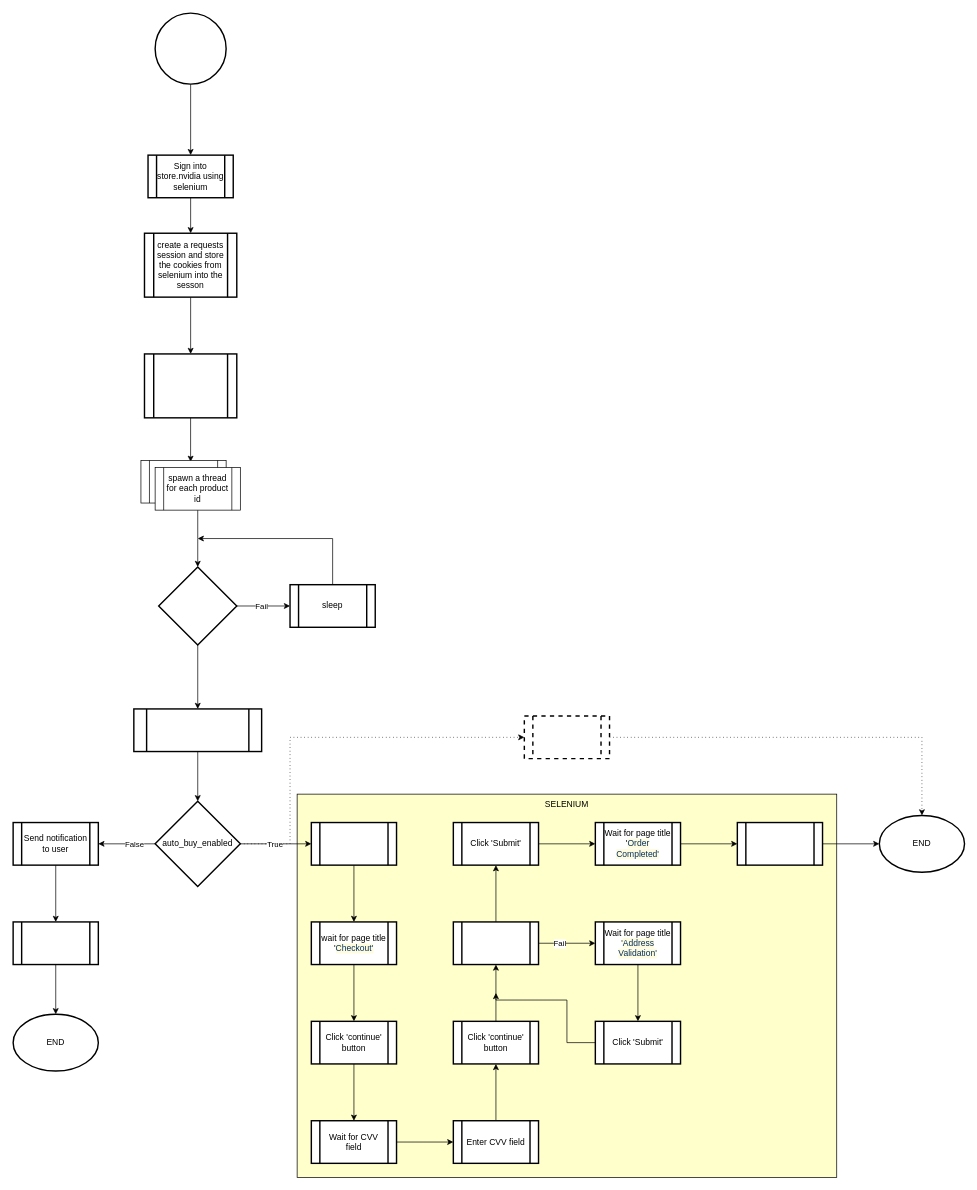
Image size: 977x1190. Some labels were removed from this diagram. Here are the shapes that lost their labels. From the top down, the centre of each, then its label:
At (190,48): "Start".
At (190,385): "Call /products api to get product IDs for the item".
At (197,605): "add_to_cart".
At (197,730): "apply_shopper_details".
At (566,737): "submit_cart".
At (353,843): "Open checkout page".
At (779,843): "Save Screenshot".
At (55,943): "Open browser to checkout page".
At (495,943): "Wait for page title ' Verify Order'".
